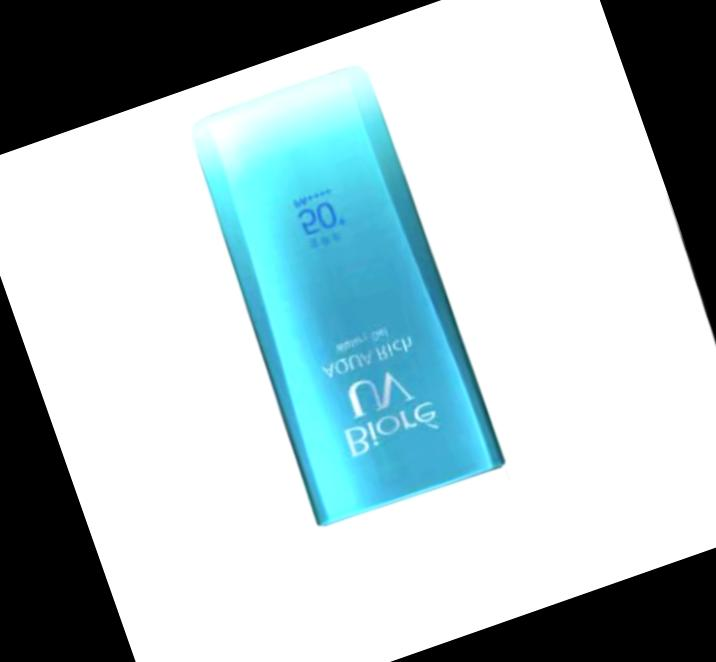cosmetic: (166, 54, 558, 654)
